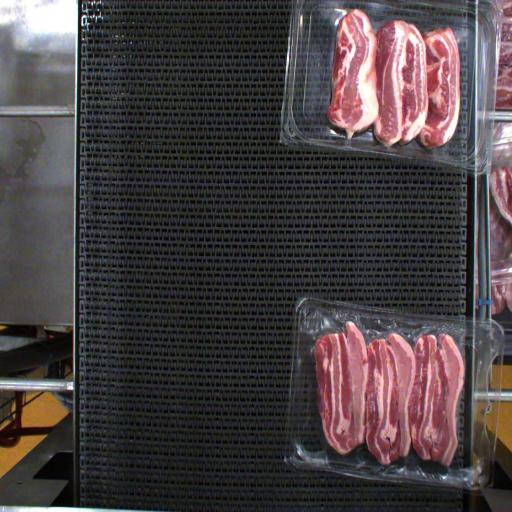unsealed: (298, 304, 474, 390)
